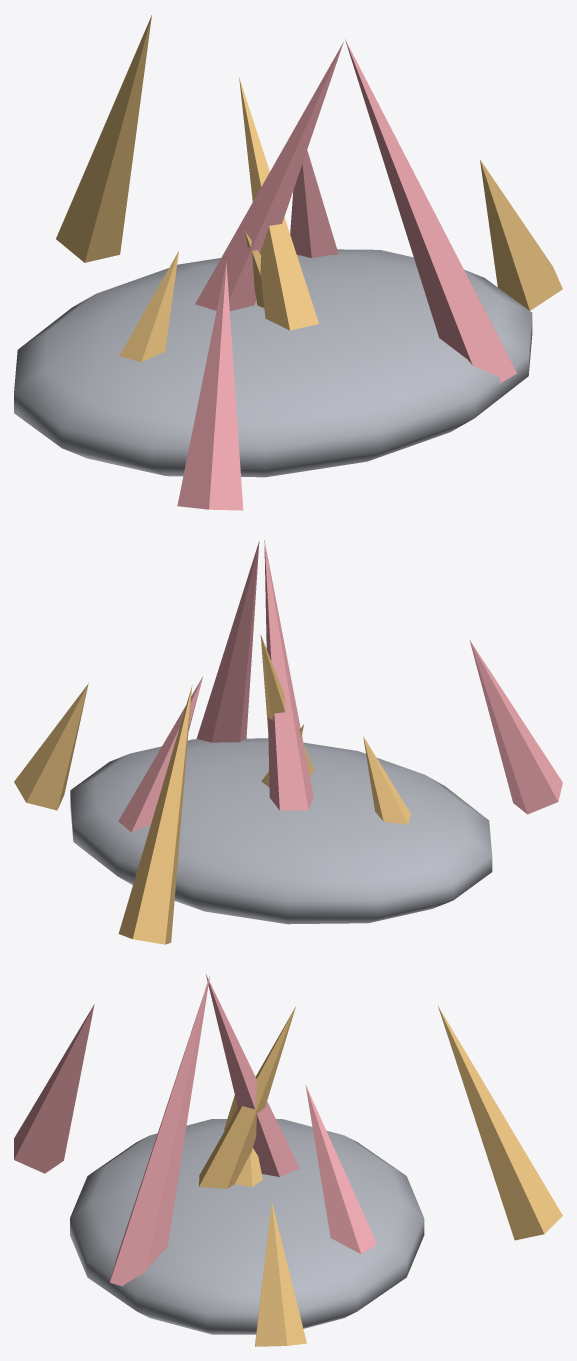
File: ocean__coral.fbx
3 views of the same model, one above another, from view 1: azimuth 30°, elevation 25°; view 2: azimuth 150°, elevation 25°; view 3: azimuth 270°, elevation 25° (orthographic). The views are drawn at different scales.
Visible parts, largest first — view 1: ocean__coral; view 2: ocean__coral; view 3: ocean__coral.
Boxes of the visible parts, x1,y1,x2,y2 form: ocean__coral: (14,15,562,510); ocean__coral: (14,540,562,944); ocean__coral: (14,974,562,1346).
Size of the model in its own units: 2.15 by 1.48 by 2.29.
